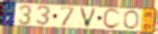3: (35, 4, 52, 27), (18, 3, 33, 26)
7: (59, 5, 76, 28)
C: (102, 8, 121, 30)
O: (123, 10, 140, 31)
V: (79, 6, 99, 29)
